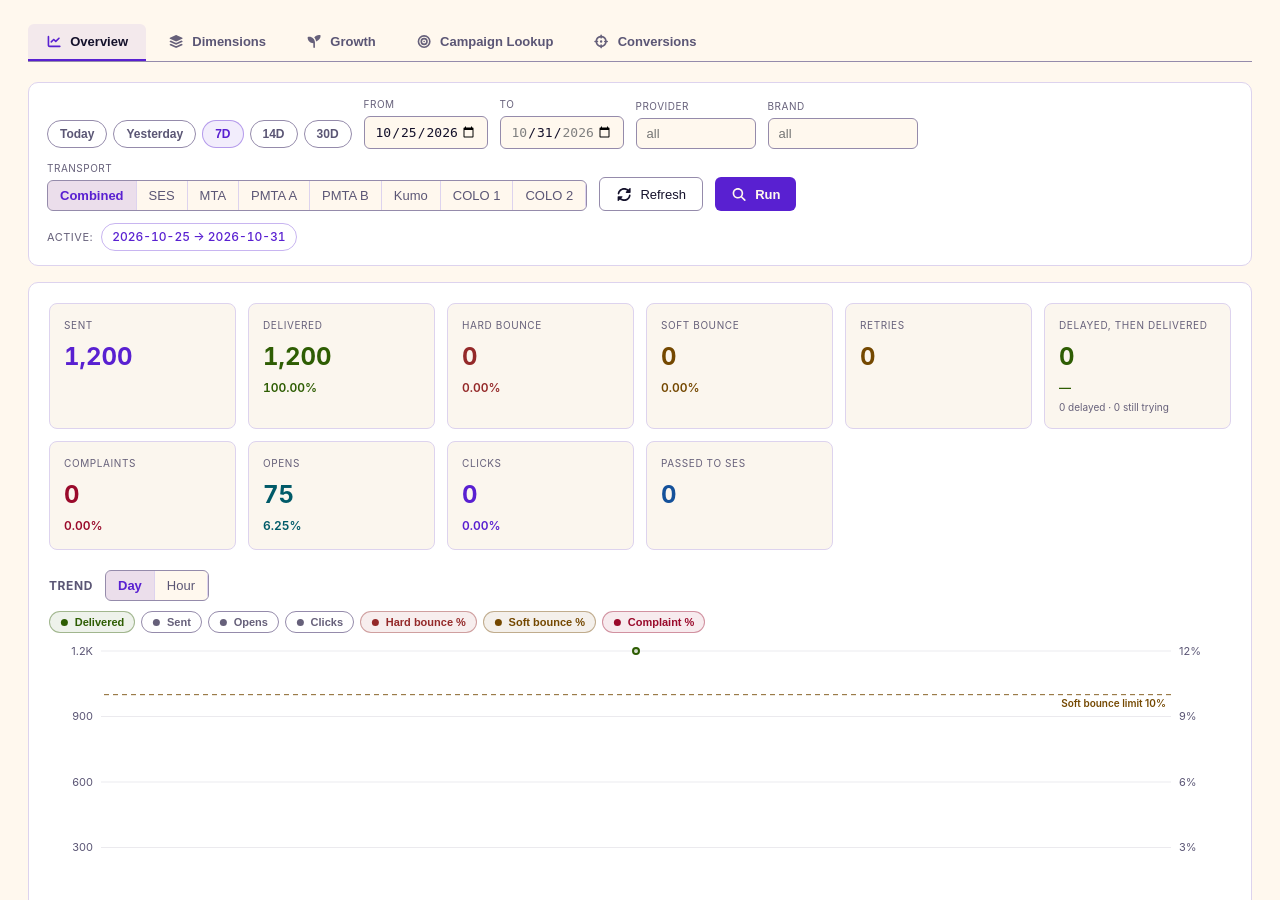
it: Reporting filters › Transport slices in the browser, with a spinner and no fetch
Click the button "SES" at {"x": 162, "y": 196}, box [137, 181, 188, 210]
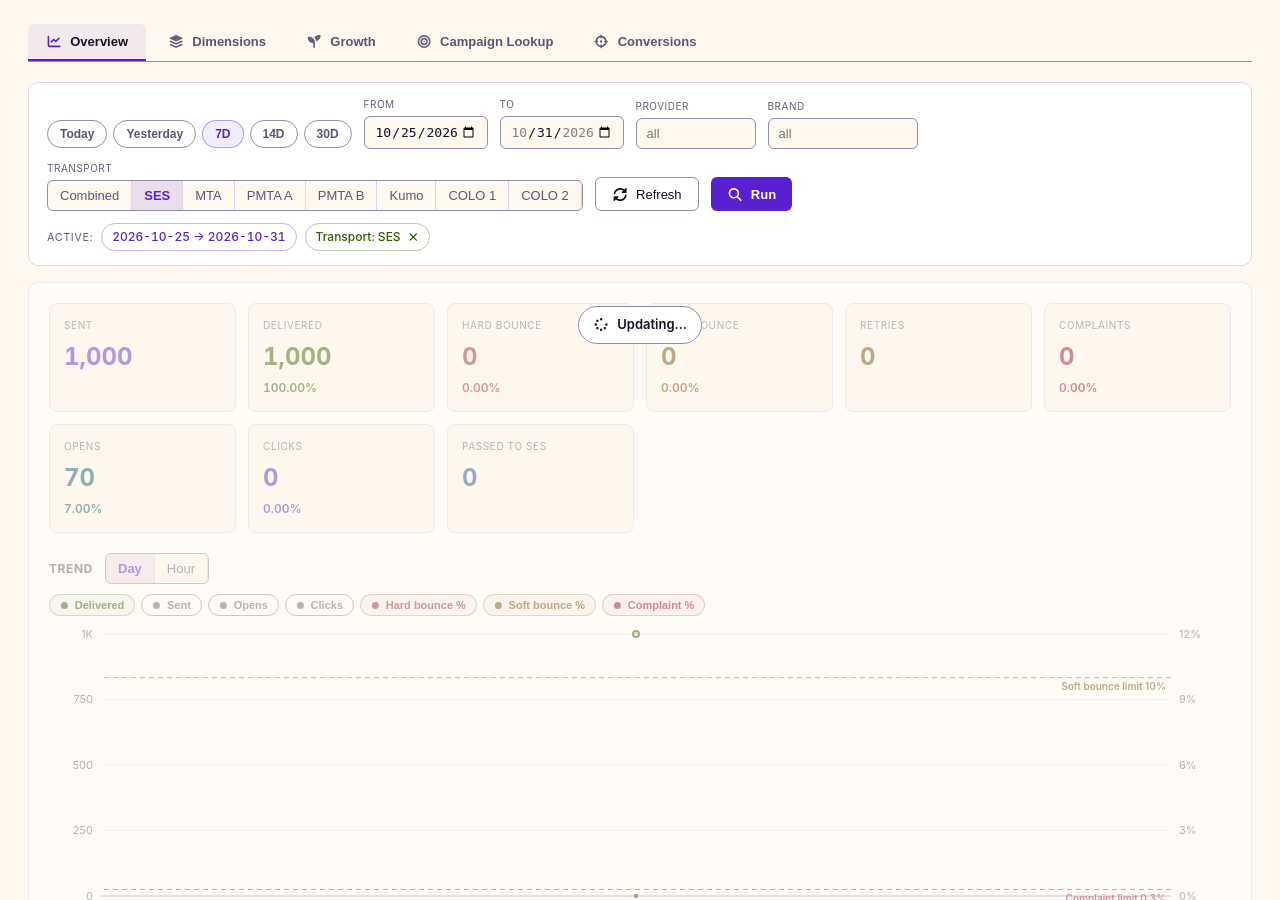
Expected: the message shows "Updating", [617, 316, 687, 332]
